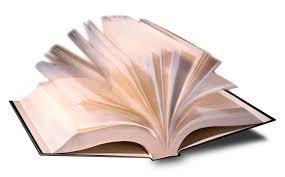Paper: (9, 9, 285, 157)
